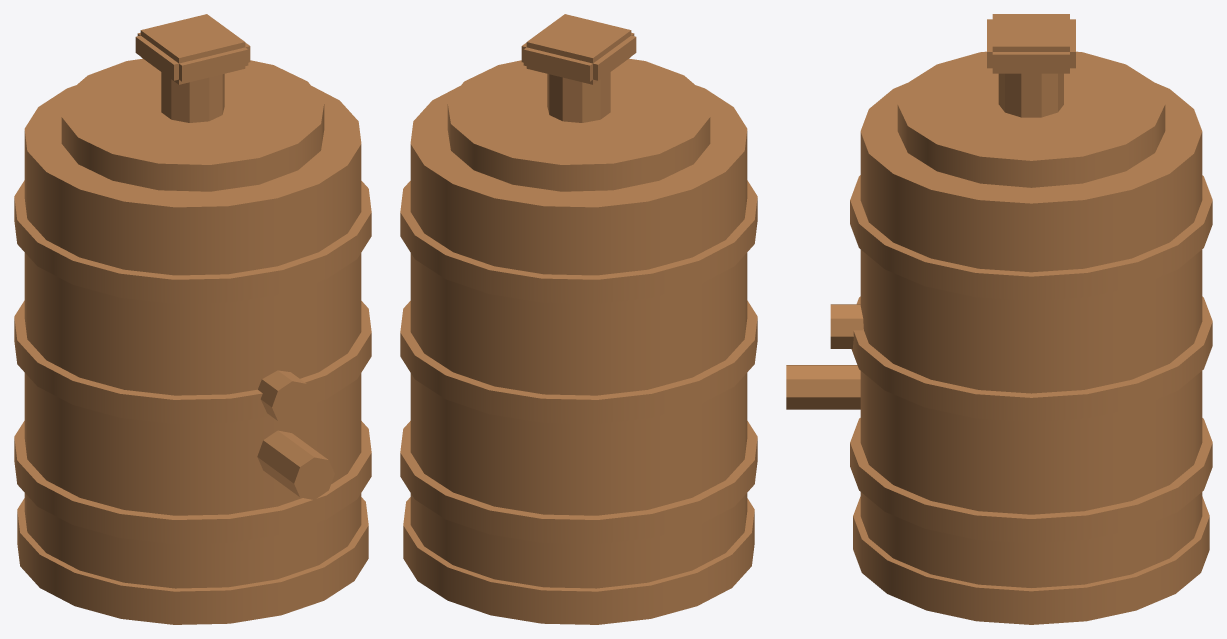
Rendered from napalm_fuel_drum.glb.
3 views of the same model, side by side, from view 1: azimuth 30°, elevation 25°; view 2: azimuth 150°, elevation 25°; view 3: azimuth 270°, elevation 25° (orthographic).
Visible parts, largest first — view 1: napalm_fuel_drum; view 2: napalm_fuel_drum; view 3: napalm_fuel_drum.
Part boxes in pixels (x1=…): napalm_fuel_drum: x1=14, y1=14, x2=371, y2=624; napalm_fuel_drum: x1=400, y1=14, x2=757, y2=624; napalm_fuel_drum: x1=786, y1=14, x2=1212, y2=624.
Size of the model in its own units: 0.244 by 0.3855 by 0.287.
